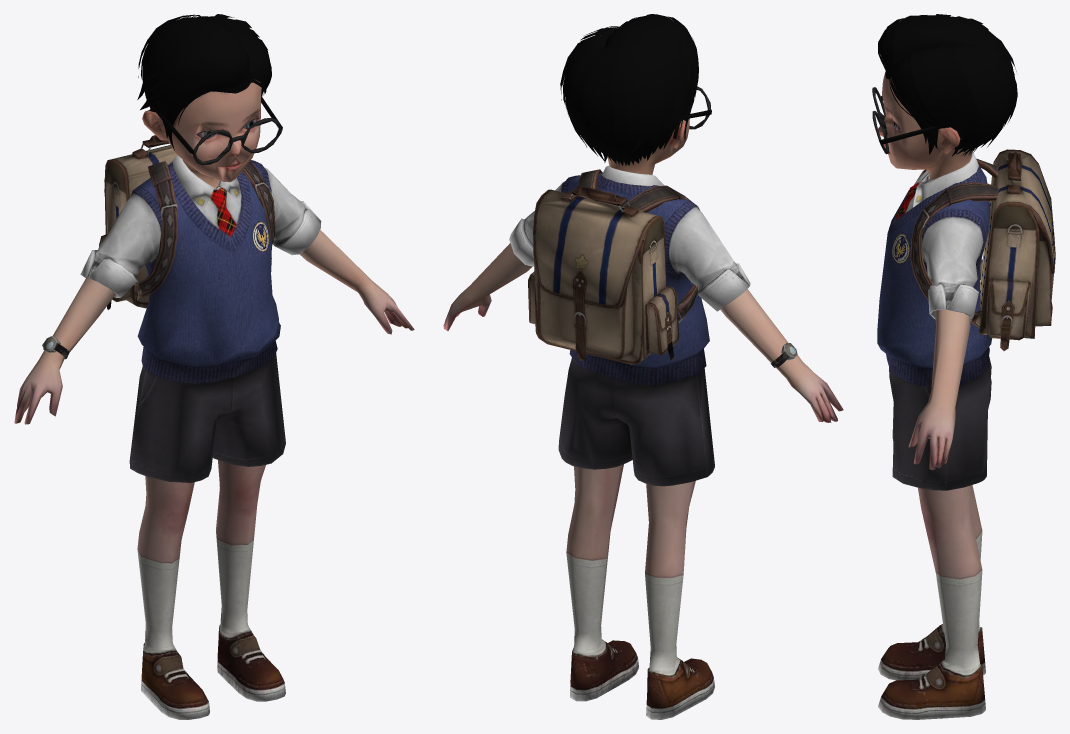
The model's file is Schoolboy.glb.
The picture shows the model from 3 angles, left to right: view 1: azimuth 30°, elevation 25°; view 2: azimuth 150°, elevation 25°; view 3: azimuth 270°, elevation 25°; orthographic projection.
Parts seen in each view (by area): view 1: Obj3d66-4713683-1-467; view 2: Obj3d66-4713683-1-467; view 3: Obj3d66-4713683-1-467.
Part boxes in pixels (left/top/right/bottom): Obj3d66-4713683-1-467: left=14, top=14, right=414, bottom=719; Obj3d66-4713683-1-467: left=443, top=14, right=843, bottom=719; Obj3d66-4713683-1-467: left=872, top=14, right=1055, bottom=719.
Size of the model in its own units: 0.5587 by 0.9065 by 0.2251.
Materials: 2 (2 with a texture image).
